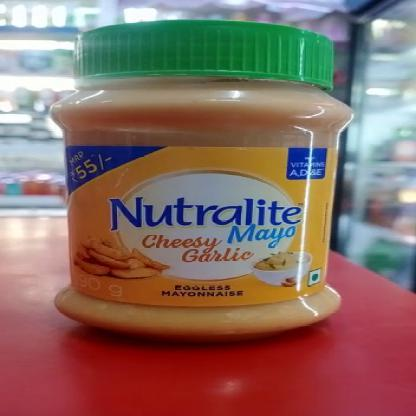Nutralite CHEESY GARLIC MAYO 300g-275g-25g-: (74, 25, 328, 312), (319, 312, 320, 317)
